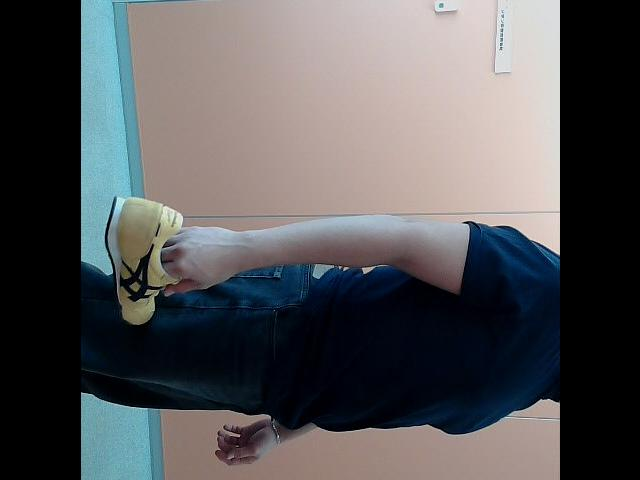Shoes: (106, 195, 188, 322)
